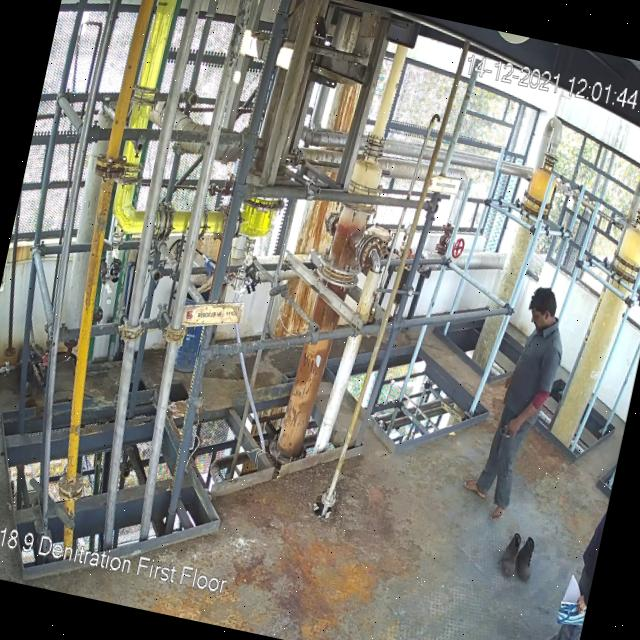boots: (514, 535, 540, 582), (498, 532, 521, 576)
no-boots: (458, 471, 493, 504), (487, 500, 506, 526)
